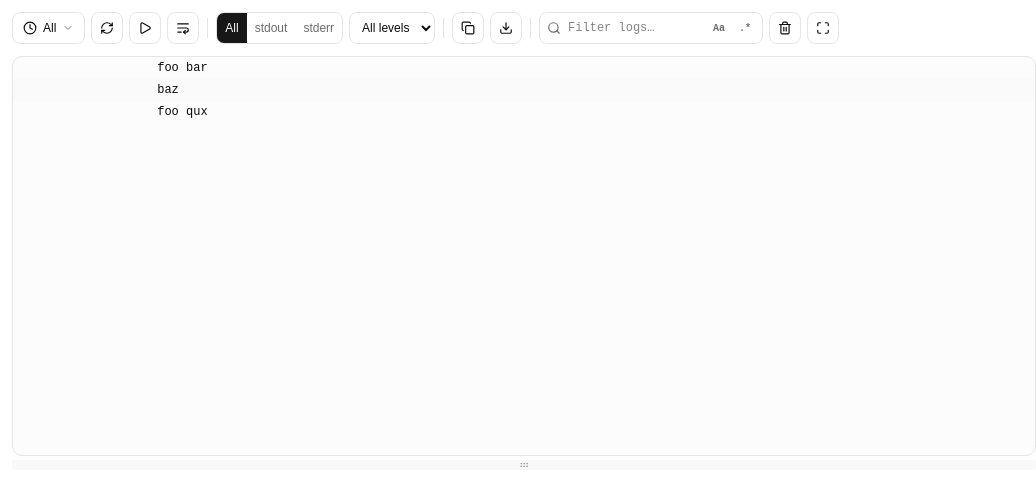
Test: LogViewer › navigates between search matches with Enter
expect the text "foo bar" is shown: met, box 157,57 -> 1035,79
Type "foo" into the field with placeholder "Filter logs…" at coordinates (651, 28), box 539,12 -> 763,44
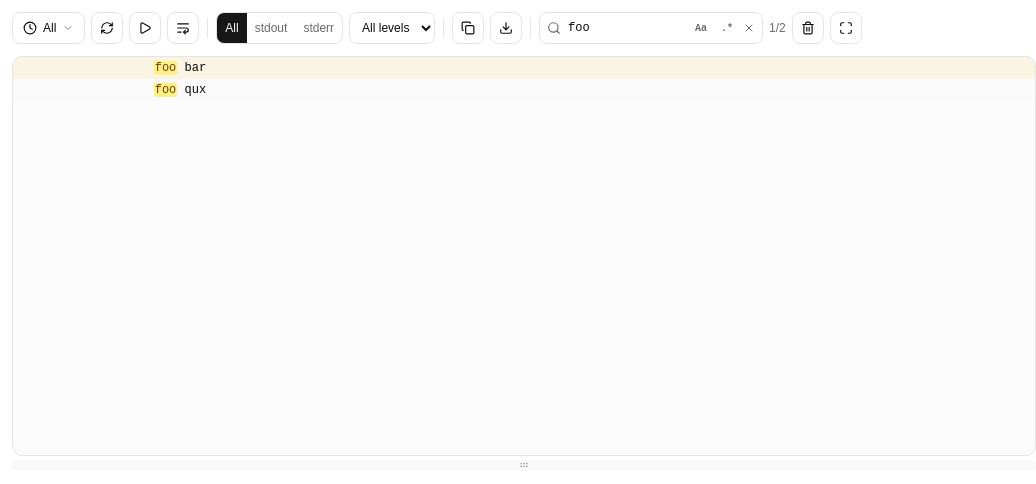
expect the text "1/2" is shown: met, box 769,20 -> 786,36
Note: Press Enter to go to next match
Press Enter in the field with placeholder "Filter logs…", box 539,12 -> 763,44
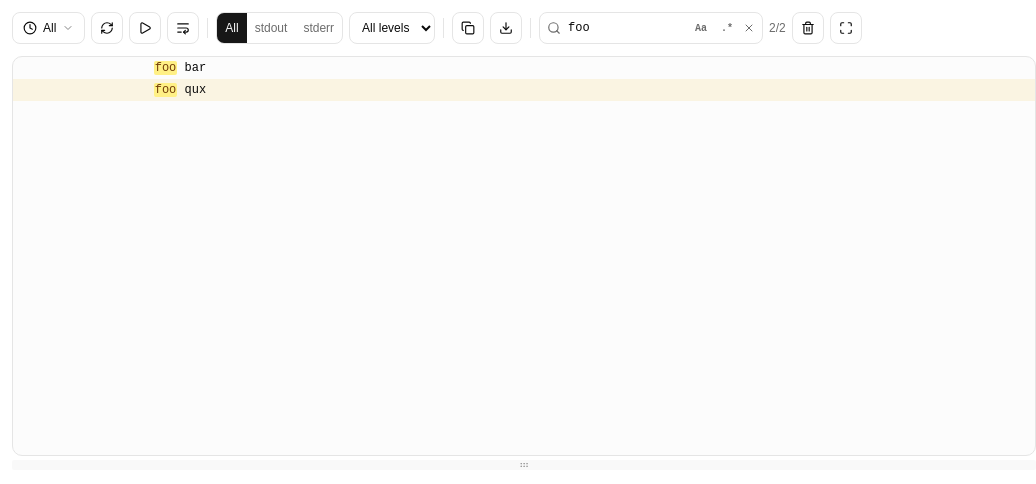
expect the text "2/2" is shown: met, box 769,20 -> 786,36
Note: Press Enter to wrap around
Press Enter in the field with placeholder "Filter logs…", box 539,12 -> 763,44
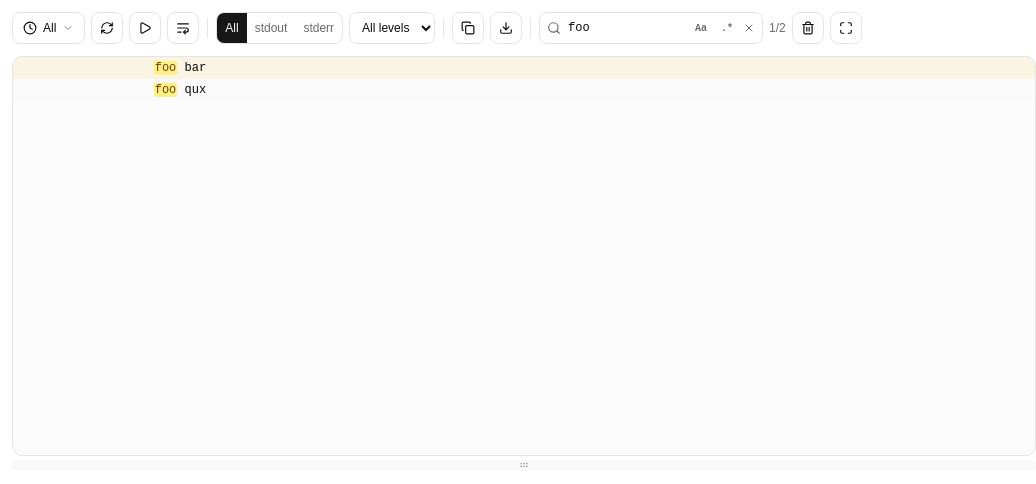
expect the text "1/2" is shown: met, box 769,20 -> 786,36
Note: Shift+Enter to go back (wraps to end)
Press Enter in the field with placeholder "Filter logs…", box 539,12 -> 763,44
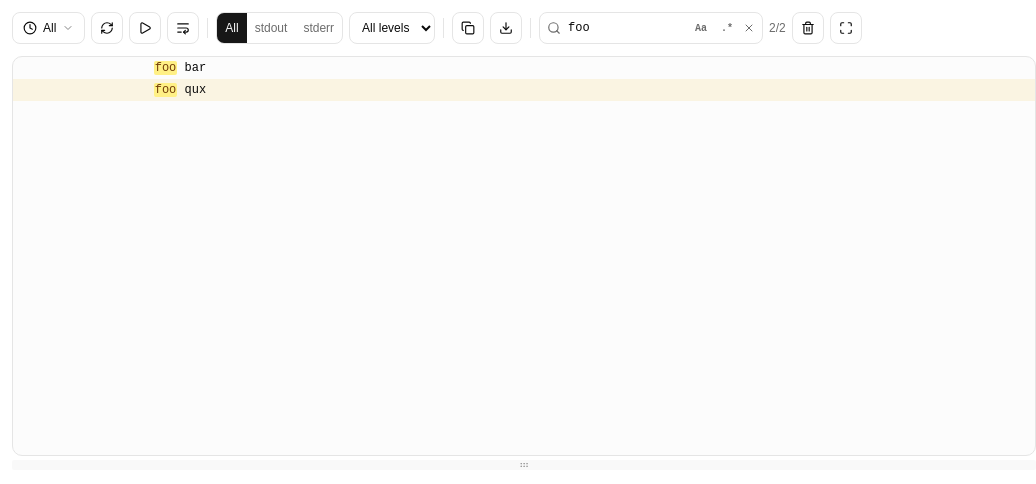
expect the text "2/2" is shown: met, box 769,20 -> 786,36
